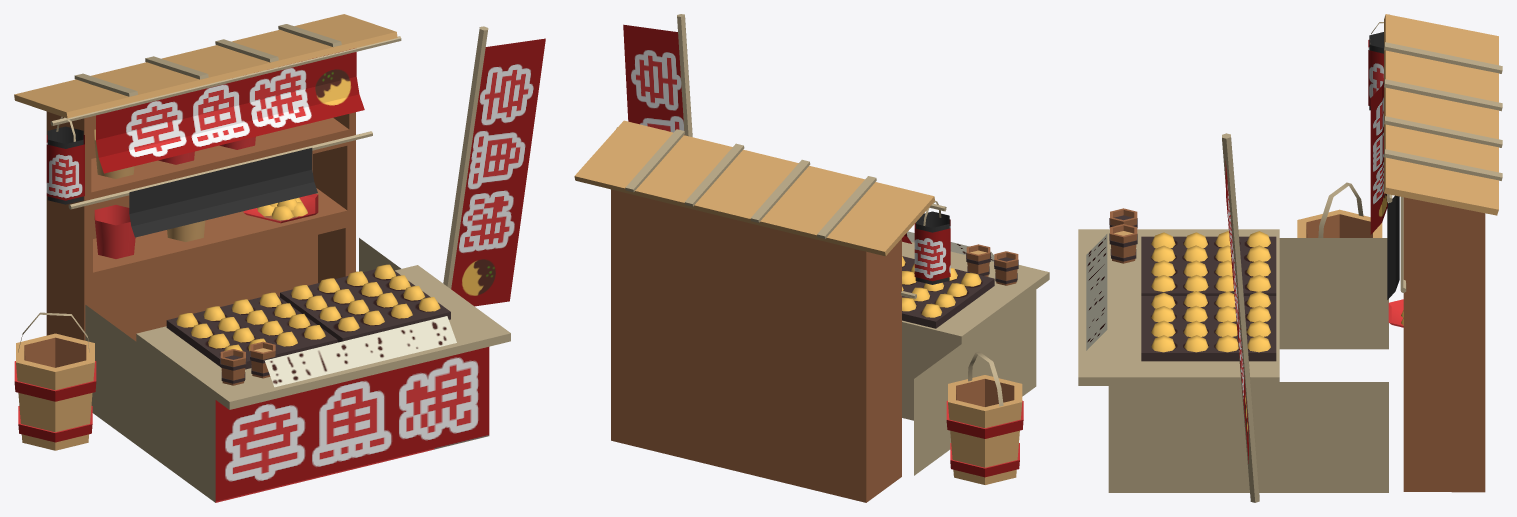
File: tacosmall.fbx
3 renders of one model, left to right at view 1: azimuth 30°, elevation 25°; view 2: azimuth 150°, elevation 25°; view 3: azimuth 270°, elevation 25°, orthographic. The views are drawn at different scales.
Parts seen in each view (by area): view 1: tacosmall; view 2: tacosmall; view 3: tacosmall.
Boxes of the visible parts, bbox=[...] form: tacosmall: bbox=[14, 14, 545, 502]; tacosmall: bbox=[574, 14, 1049, 502]; tacosmall: bbox=[1078, 14, 1502, 502].
Size of the model in its own units: 69.9 by 49.87 by 49.81.
1 material, 1 textured.
